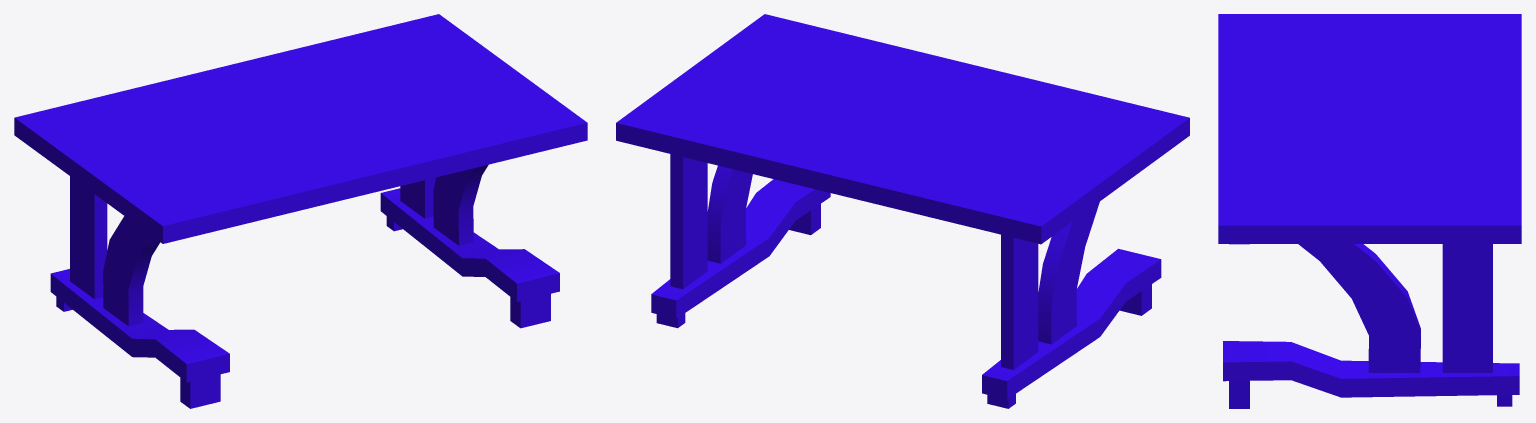
File: office_pack_table_3_meshCollider.fbx
3 renders of one model, left to right at view 1: azimuth 30°, elevation 25°; view 2: azimuth 150°, elevation 25°; view 3: azimuth 270°, elevation 25°, orthographic. The views are drawn at different scales.
Visible parts, largest first — view 1: office_pack_table_3_meshCollider; view 2: office_pack_table_3_meshCollider; view 3: office_pack_table_3_meshCollider.
Boxes of the visible parts, left/top/right/bottom form: office_pack_table_3_meshCollider: left=14, top=14, right=587, bottom=408; office_pack_table_3_meshCollider: left=616, top=14, right=1189, bottom=408; office_pack_table_3_meshCollider: left=1218, top=14, right=1521, bottom=408.
Bounding box in the file's own units: 99.91 × 43.76 × 60.52.
